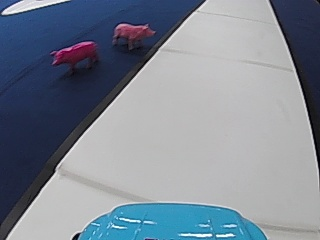pig: (49, 37, 98, 75), (110, 18, 156, 51)
